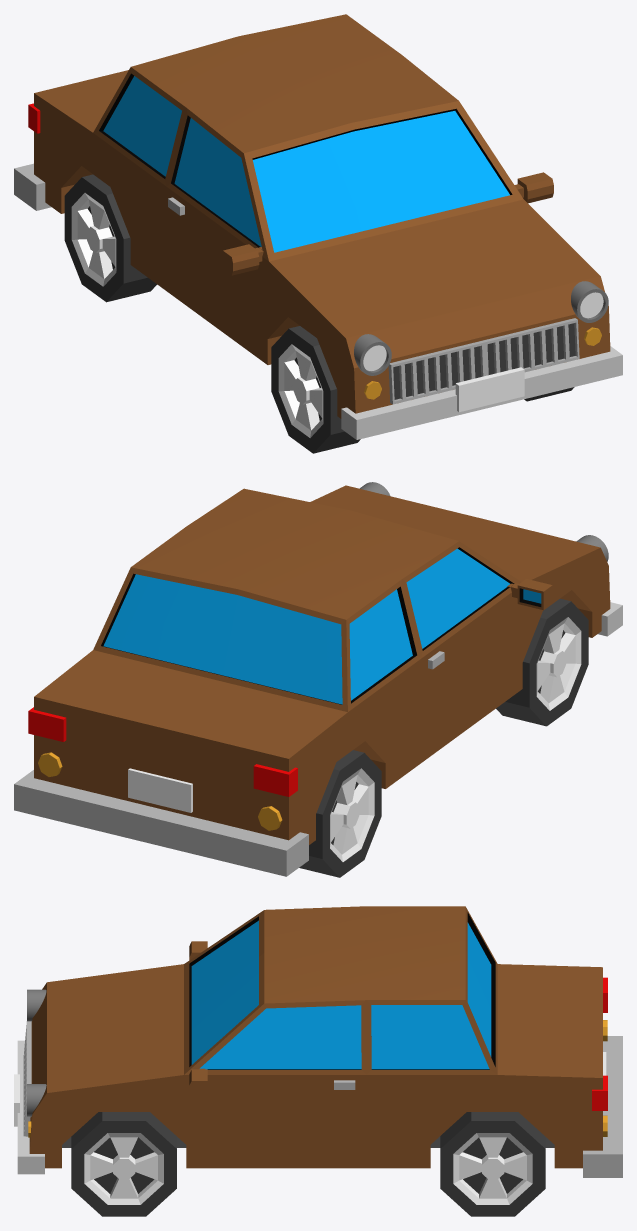
Rendered from car.fbx.
3 views of the same model, one above another, from view 1: azimuth 30°, elevation 25°; view 2: azimuth 150°, elevation 25°; view 3: azimuth 270°, elevation 25° (orthographic). The views are drawn at different scales.
Parts seen in each view (by area): view 1: Car, Wheel_RR, Wheel_FR; view 2: Car, Wheel_FR, Wheel_RR; view 3: Car, Wheel_FL, Wheel_RL.
Boxes of the visible parts, box(x1,y1,x2,y2) form: Car: box(14, 14, 622, 439); Wheel_RR: box(64, 174, 156, 302); Wheel_FR: box(271, 326, 360, 453); Car: box(14, 482, 622, 876); Wheel_FR: box(496, 598, 588, 726); Wheel_RR: box(299, 750, 381, 877); Car: box(14, 906, 622, 1177); Wheel_FL: box(71, 1112, 176, 1216); Wheel_RL: box(440, 1112, 545, 1216).
Bounding box in the file's own units: 231 × 163 × 426.
